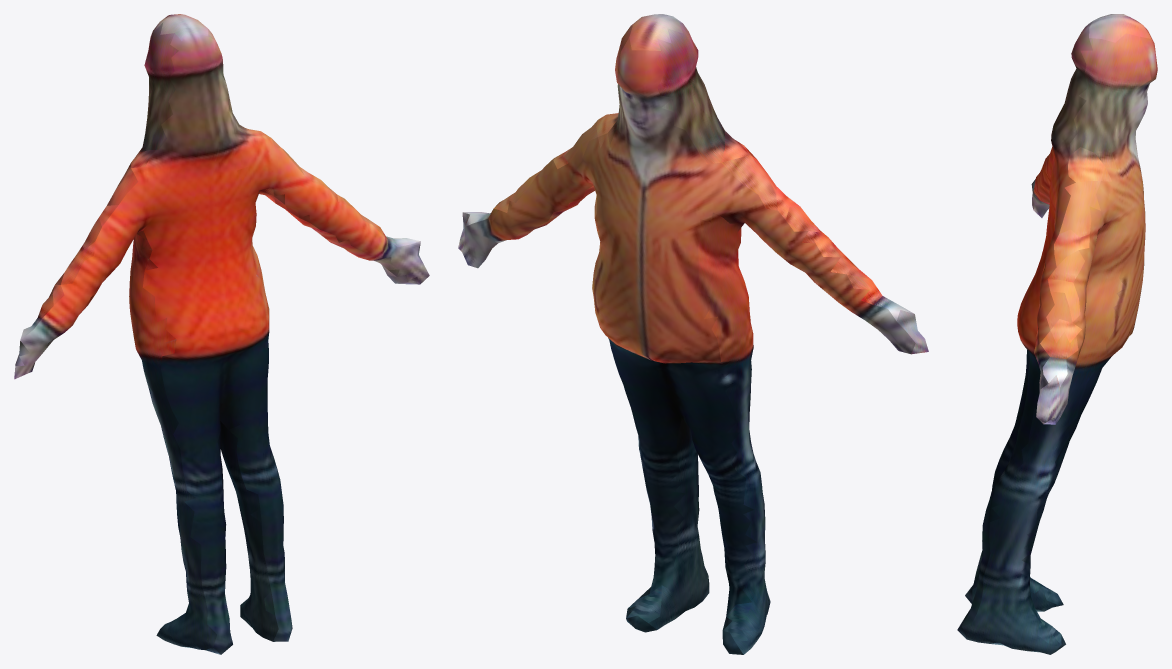
3 renders of one model, left to right at view 1: azimuth 30°, elevation 25°; view 2: azimuth 150°, elevation 25°; view 3: azimuth 270°, elevation 25°, orthographic. The views are drawn at different scales.
Visible parts, largest first — view 1: world; view 2: world; view 3: world.
Part boxes in pixels (x1,y1,x2,y2): world: (14, 14, 429, 654); world: (458, 14, 928, 654); world: (957, 14, 1157, 654).
Bounding box in the file's own units: 0.7467 × 1 × 0.2971.
Materials: 1 (1 with a texture image).
